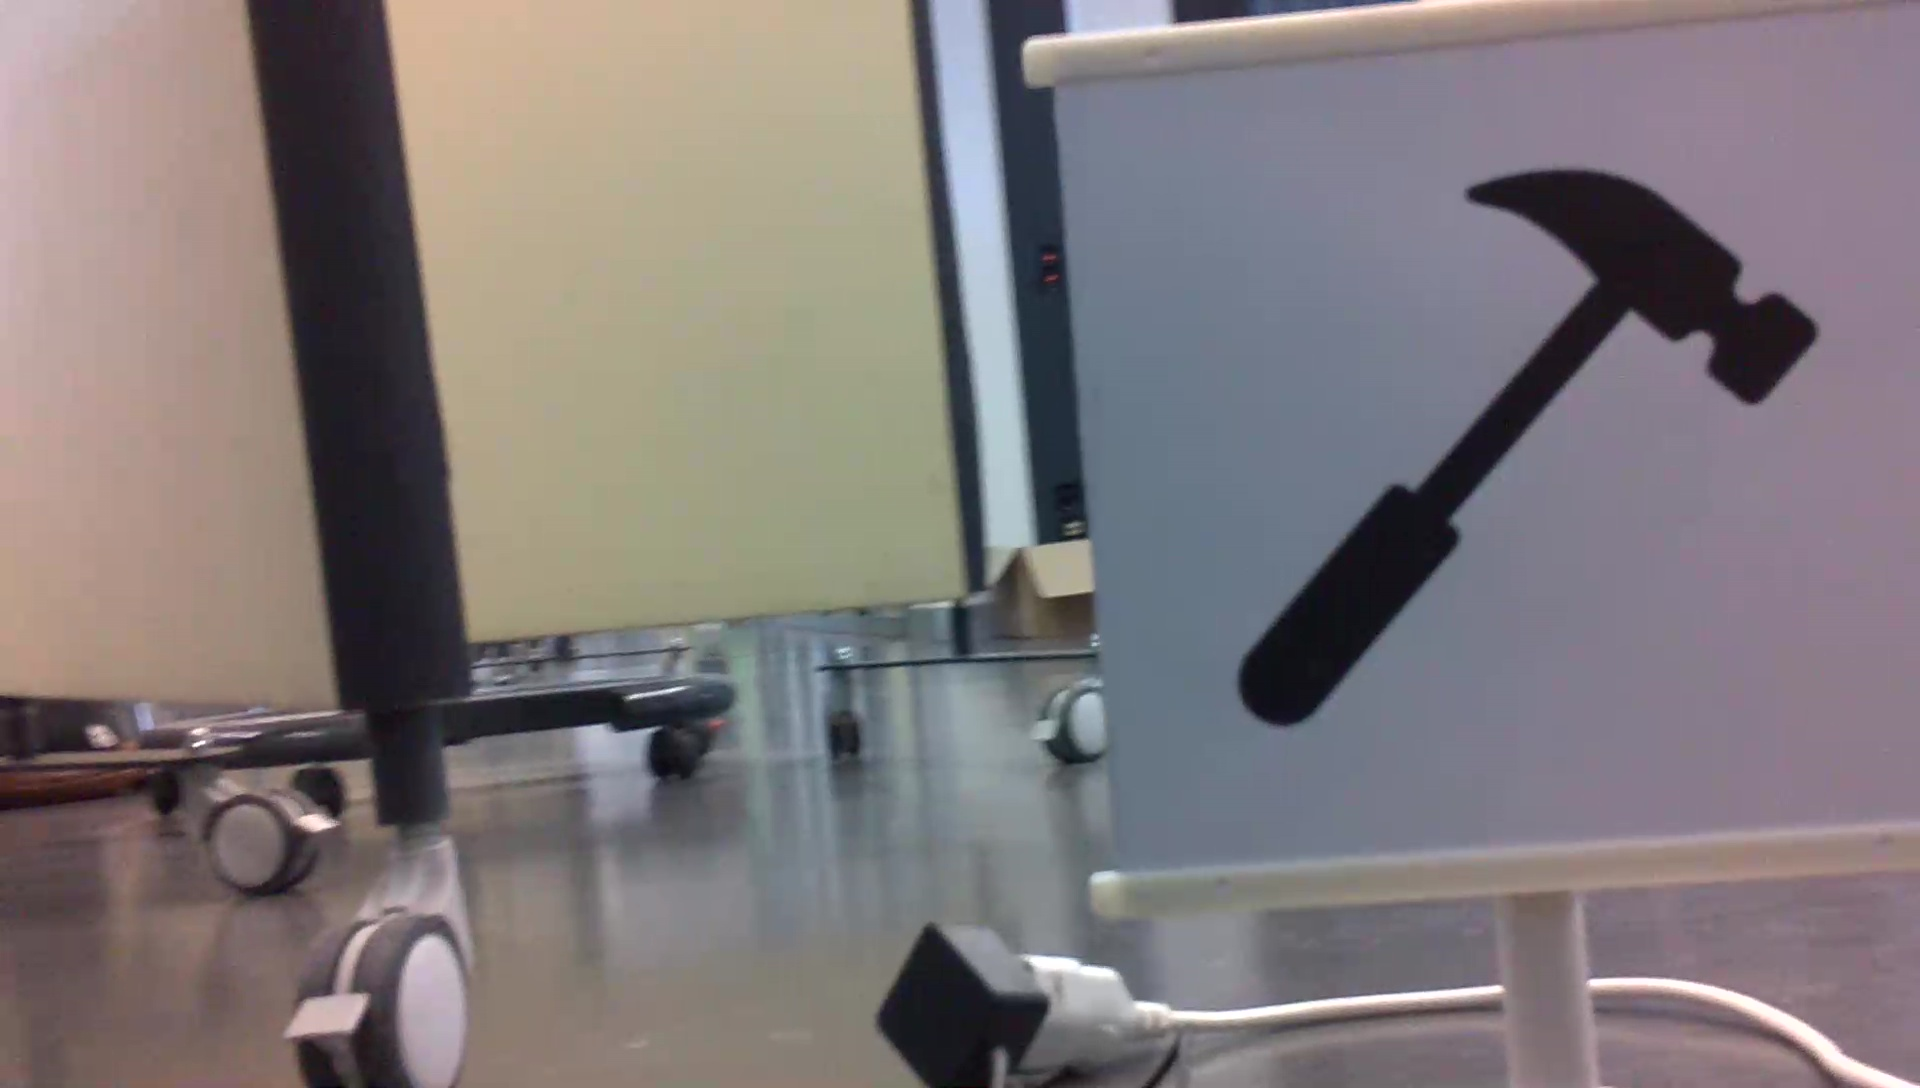hammer: (1228, 162, 1828, 729)
